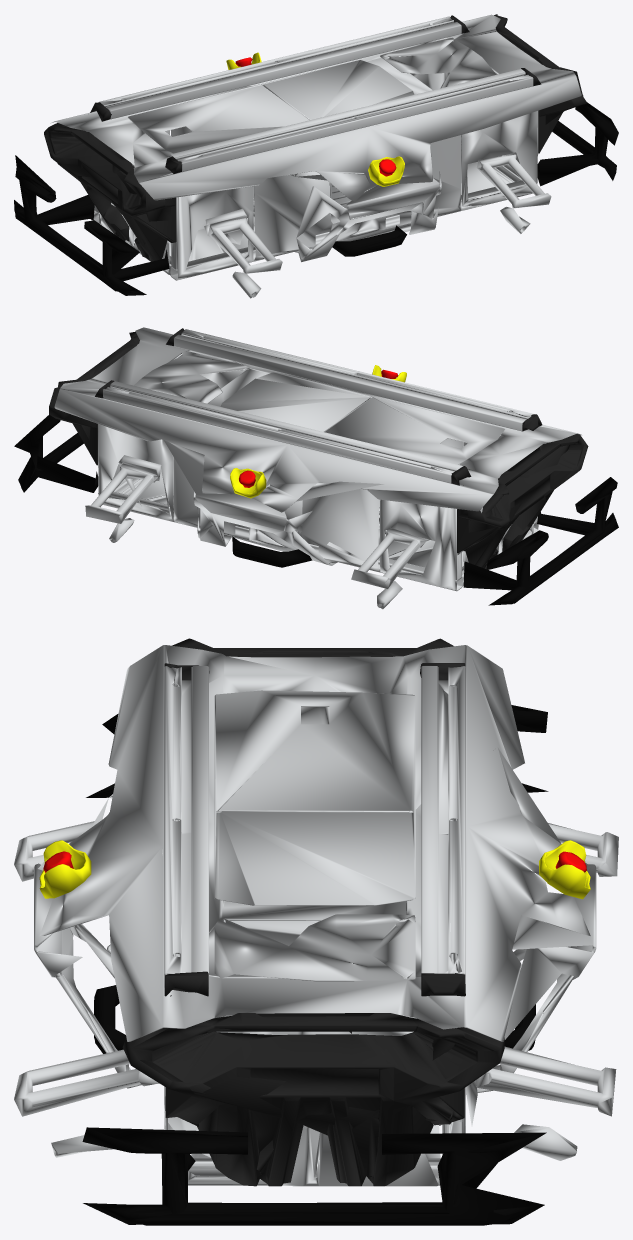
3 renders of one model, top to bottom at view 1: azimuth 30°, elevation 25°; view 2: azimuth 150°, elevation 25°; view 3: azimuth 270°, elevation 25°, orthographic. The views are drawn at different scales.
Visible parts, largest first — view 1: node1, node3, node0, node4; view 2: node1, node3, node0, node4; view 3: node1, node3, node0, node4.
Boxes of the visible parts, x1=… form: node1: x1=50, y1=14, x2=581, y2=298; node3: x1=44, y1=14, x2=587, y2=261; node0: x1=14, y1=102, x2=618, y2=295; node4: x1=226, y1=52, x2=404, y2=186; node1: x1=54, y1=327, x2=581, y2=609; node3: x1=49, y1=328, x2=588, y2=568; node0: x1=14, y1=414, x2=618, y2=605; node4: x1=230, y1=365, x2=406, y2=498; node1: x1=14, y1=645, x2=618, y2=1186; node3: x1=122, y1=638, x2=504, y2=1186; node0: x1=82, y1=705, x2=548, y2=1225; node4: x1=39, y1=840, x2=590, y2=899.
Bounding box in the file's own units: 0.9437 × 0.5419 × 0.2212.
